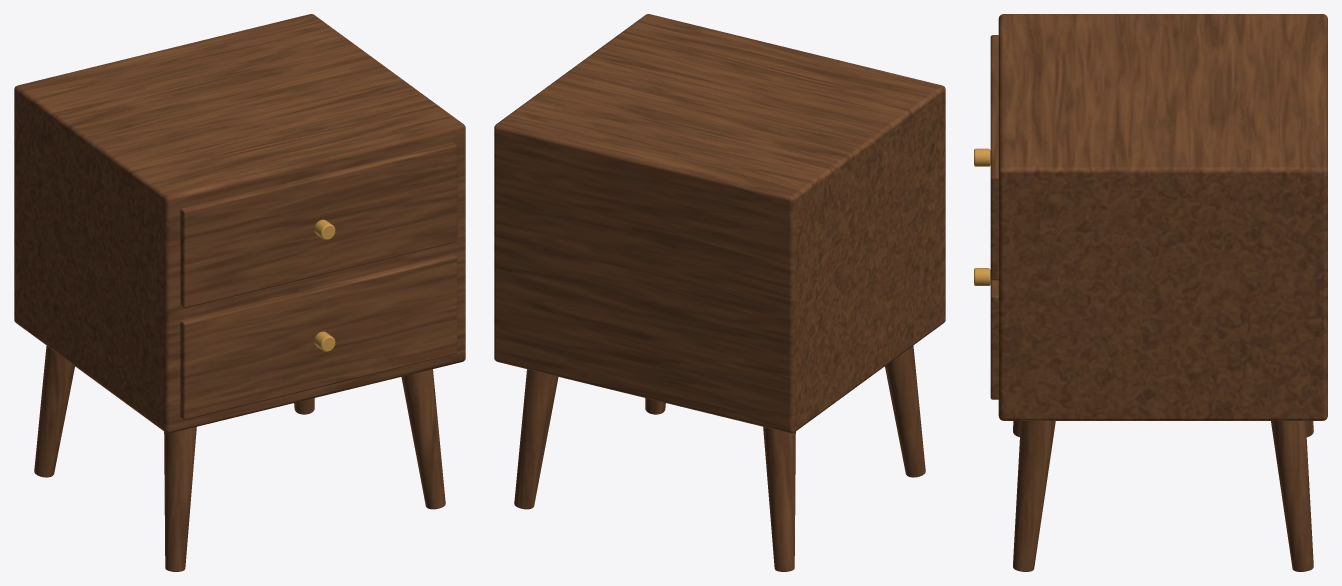
The model's file is nightstand.glb.
3 views of the same model, side by side, from view 1: azimuth 30°, elevation 25°; view 2: azimuth 150°, elevation 25°; view 3: azimuth 270°, elevation 25° (orthographic). The views are drawn at different scales.
Parts seen in each view (by area): view 1: Cube; view 2: Cube; view 3: Cube.
Boxes of the visible parts, left/top/right/bottom form: Cube: left=14, top=14, right=465, bottom=571; Cube: left=494, top=14, right=945, bottom=571; Cube: left=974, top=14, right=1327, bottom=571.
Bounding box in the file's own units: 0.45 × 0.5515 × 0.43.
Materials: 1 (1 with a texture image).
